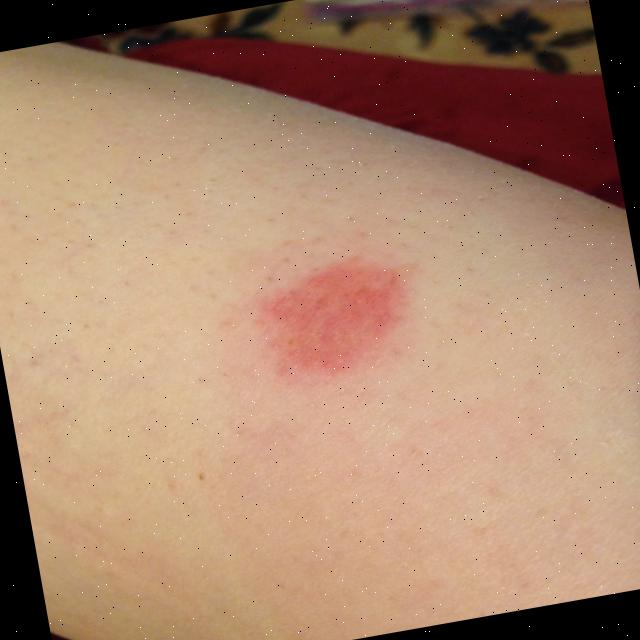kene: (236, 245, 438, 396)
